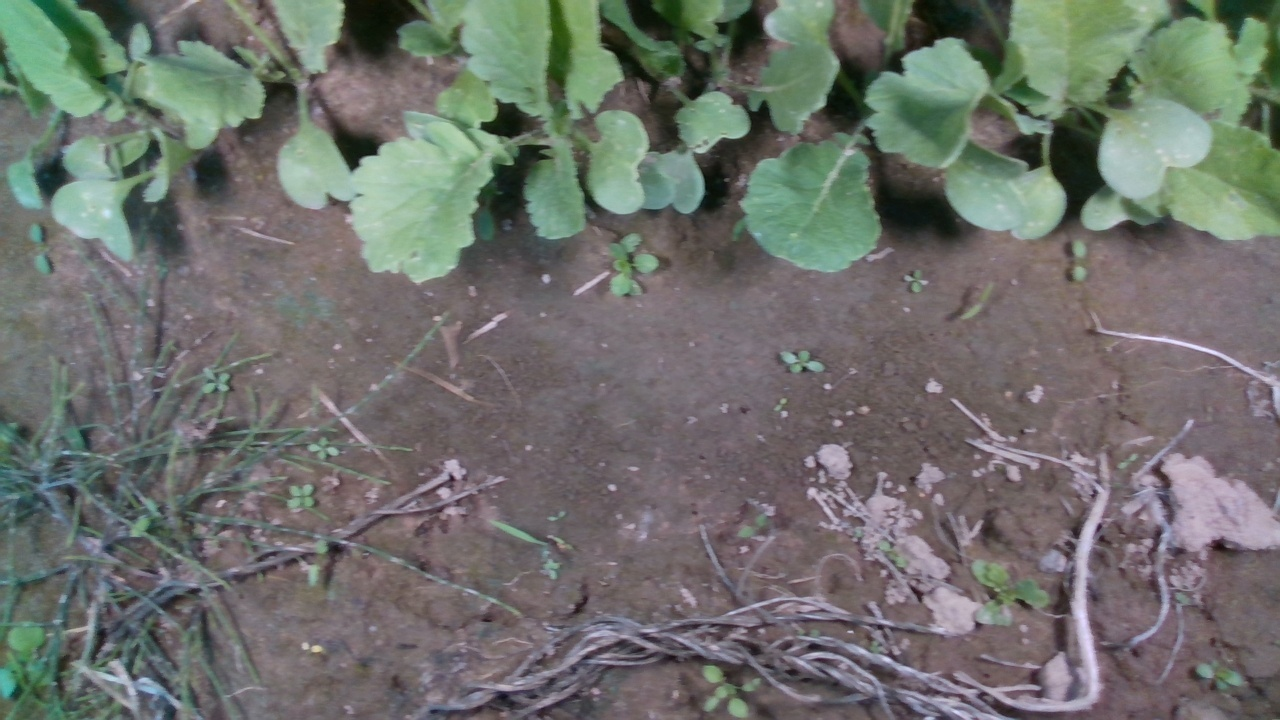weed: (26, 222, 54, 279), (777, 348, 825, 375), (1070, 239, 1090, 282), (903, 267, 929, 295), (772, 396, 788, 411)
